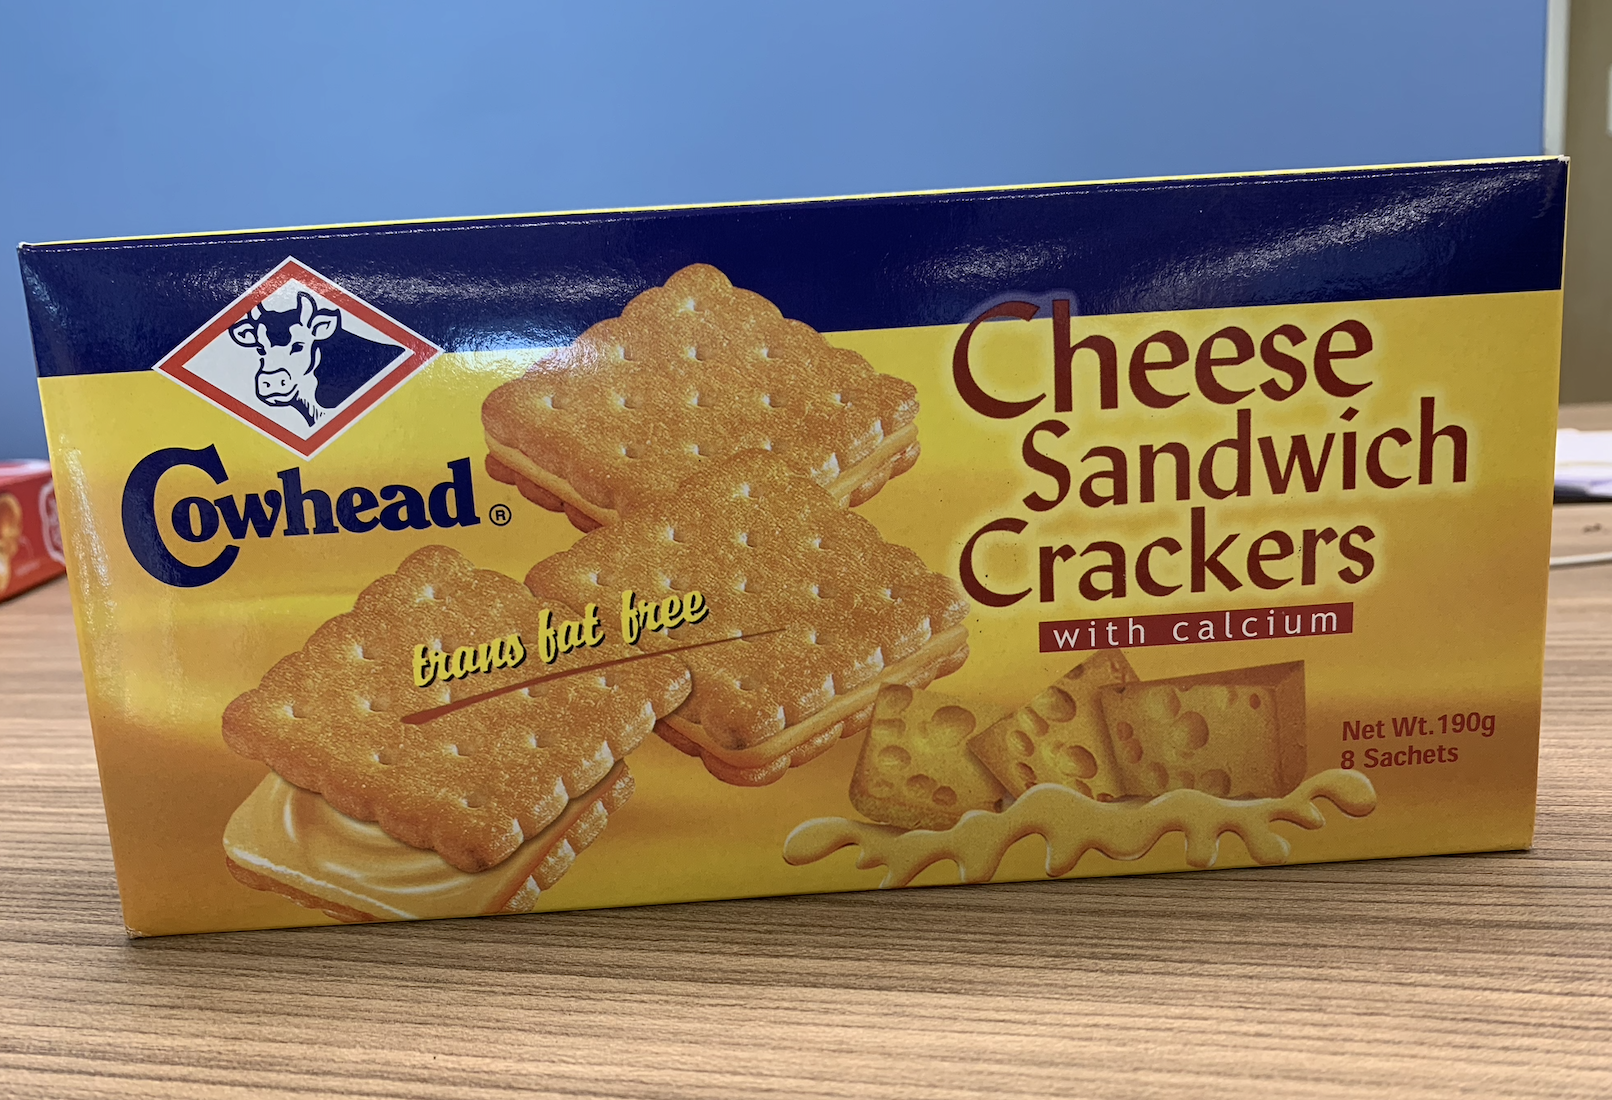crackers_150g: (120, 255, 1524, 842)
